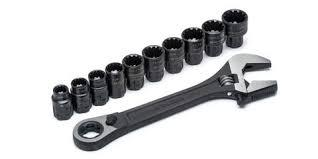wrench: (71, 51, 278, 151)
